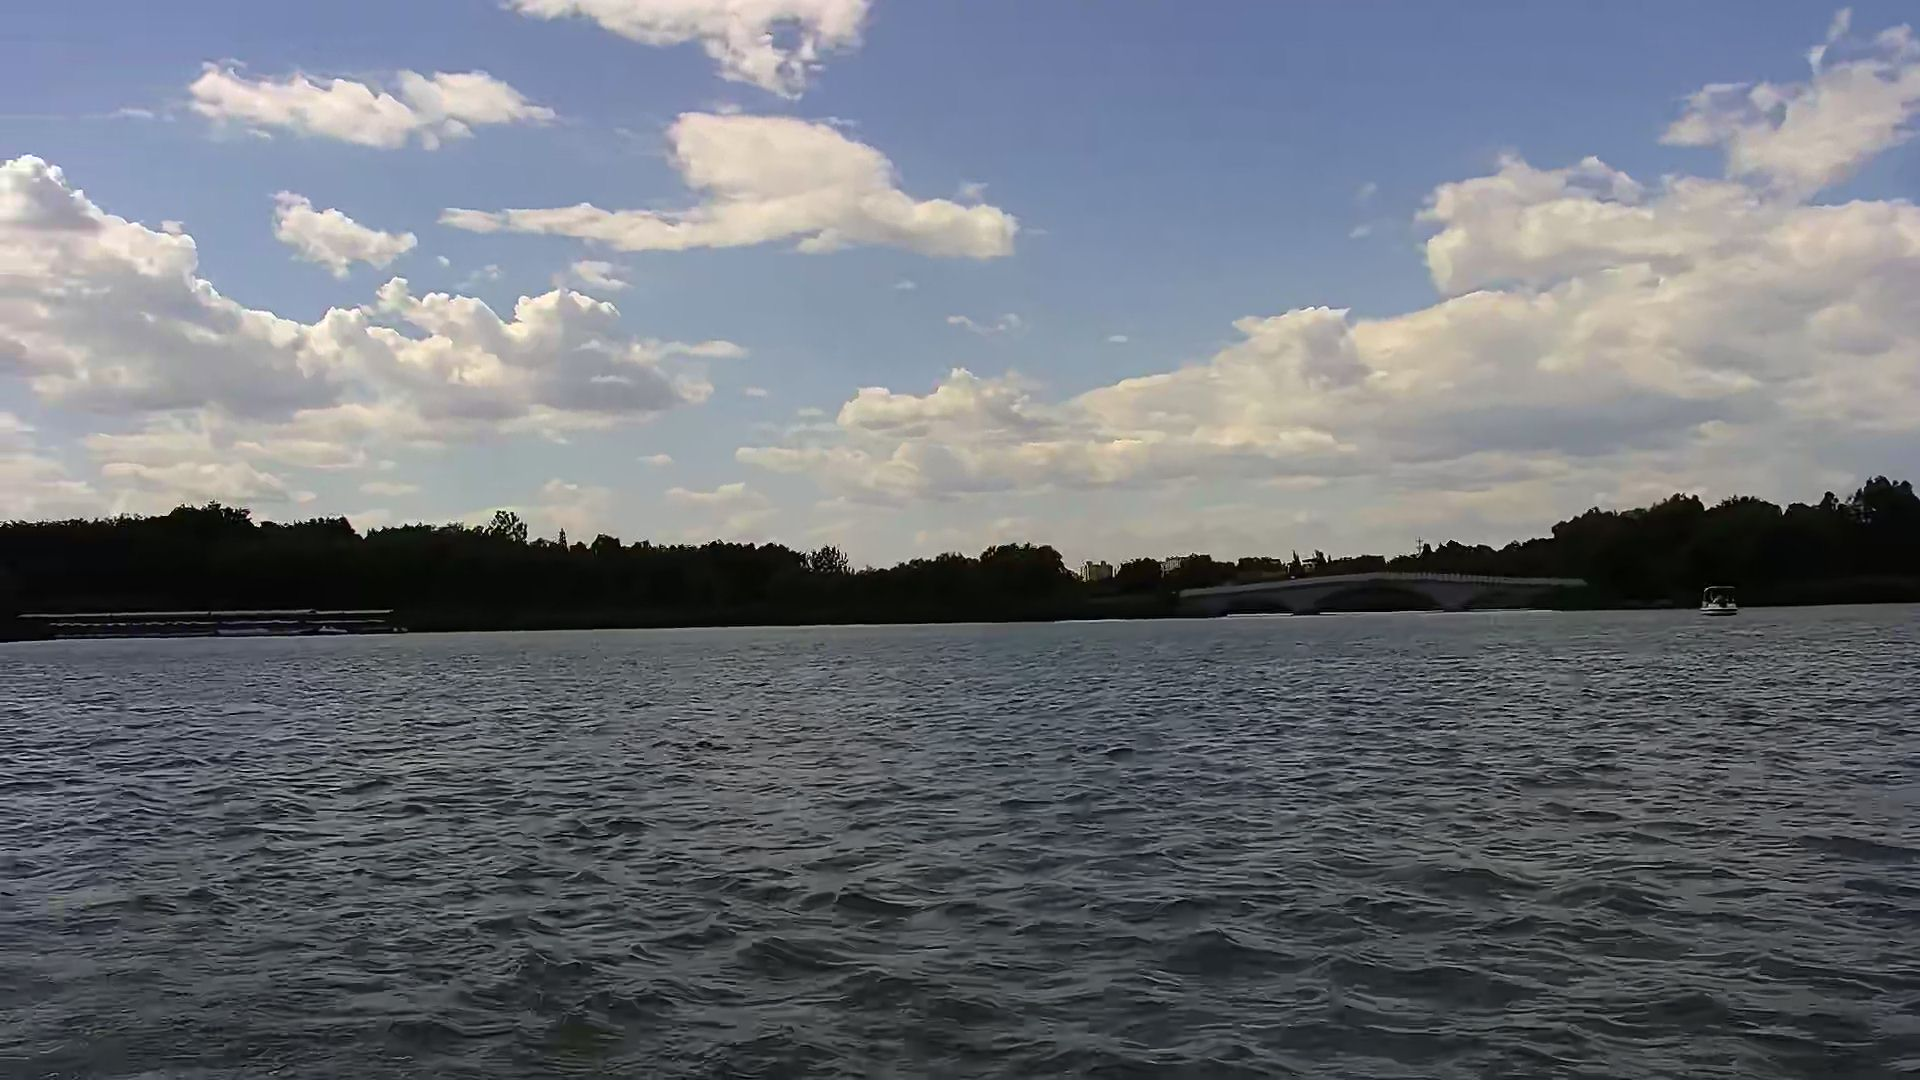boat: (1695, 574, 1749, 615)
bridge: (1174, 574, 1600, 620)
